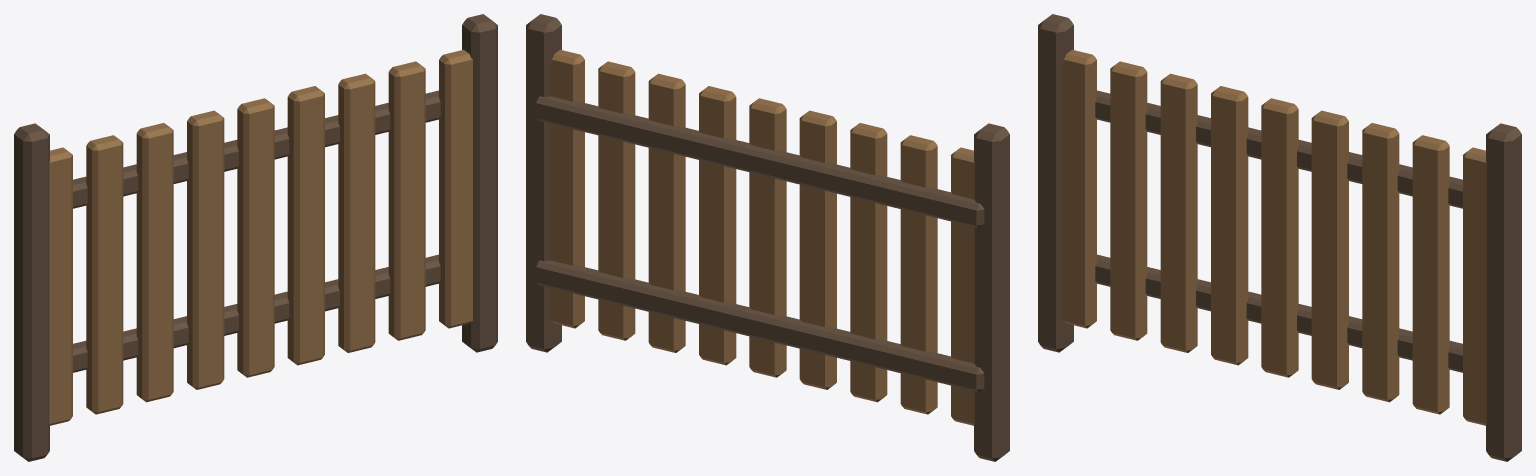
The model's file is props-fence.lod0.glb.
The picture shows the model from 3 angles, left to right: view 1: azimuth 30°, elevation 25°; view 2: azimuth 150°, elevation 25°; view 3: azimuth 330°, elevation 25°; orthographic projection.
Parts seen in each view (by area): view 1: props-fence__body; view 2: props-fence__body; view 3: props-fence__body.
Part boxes in pixels (bbox=[...]): props-fence__body: bbox=[14, 14, 497, 461]; props-fence__body: bbox=[526, 14, 1009, 461]; props-fence__body: bbox=[1038, 14, 1521, 461].
Size of the model in its own units: 2.12 by 1.4 by 0.15.
